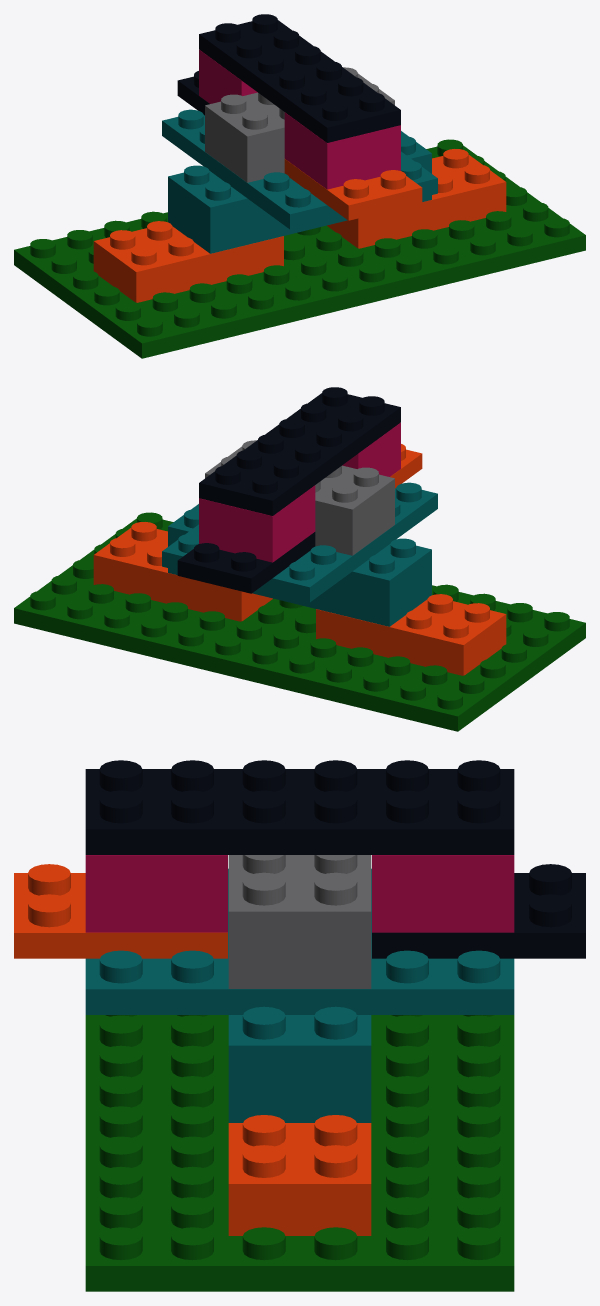
The picture shows the model from 3 angles, top to bottom: view 1: azimuth 30°, elevation 25°; view 2: azimuth 150°, elevation 25°; view 3: azimuth 270°, elevation 25°; orthographic projection. The views are drawn at different scales.
Visible parts, largest first — view 1: Part_3028.3, Part_3795.11, Part_3001.1, Part_44237.4, Part_3001.2, Part_3032.5, Part_3001.6, Part_3003.9, Part_3021.7, Part_3003.10, Part_3021.8; view 2: Part_3028.3, Part_3795.11, Part_3001.1, Part_44237.4, Part_3001.2, Part_3032.5, Part_3001.6, Part_3003.10, Part_3021.8, Part_3003.9, Part_3021.7; view 3: Part_3028.3, Part_3795.11, Part_3032.5, Part_3001.6, Part_3001.2, Part_44237.4, Part_3003.9, Part_3003.10, Part_3021.7, Part_3021.8.
Part boxes in pixels (x1,y1,x2,y2): Part_3028.3: [14, 139, 585, 358]; Part_3795.11: [199, 14, 400, 142]; Part_3001.1: [93, 221, 283, 302]; Part_44237.4: [168, 131, 431, 253]; Part_3001.2: [327, 149, 506, 248]; Part_3032.5: [162, 109, 437, 229]; Part_3001.6: [205, 67, 394, 182]; Part_3003.9: [284, 112, 400, 189]; Part_3021.7: [284, 159, 422, 220]; Part_3003.10: [199, 49, 257, 103]; Part_3021.8: [177, 71, 209, 115]; Part_3028.3: [14, 512, 585, 731]; Part_3795.11: [199, 387, 400, 515]; Part_3001.1: [316, 594, 506, 675]; Part_44237.4: [168, 504, 431, 626]; Part_3001.2: [93, 522, 272, 621]; Part_3032.5: [162, 482, 437, 602]; Part_3001.6: [205, 440, 394, 555]; Part_3003.10: [199, 485, 315, 562]; Part_3021.8: [177, 532, 315, 593]; Part_3003.9: [342, 422, 400, 476]; Part_3021.7: [390, 444, 422, 488]; Part_3028.3: [85, 1015, 514, 1291]; Part_3795.11: [85, 760, 514, 854]; Part_3032.5: [85, 868, 514, 1014]; Part_3001.6: [228, 855, 371, 988]; Part_3001.2: [228, 1115, 371, 1235]; Part_44237.4: [228, 1006, 371, 1122]; Part_3003.9: [85, 855, 227, 932]; Part_3003.10: [372, 855, 514, 932]; Part_3021.7: [14, 864, 227, 958]; Part_3021.8: [372, 864, 585, 958].
Bounding box in the file's own units: 95.92 × 40.18 × 63.92.
